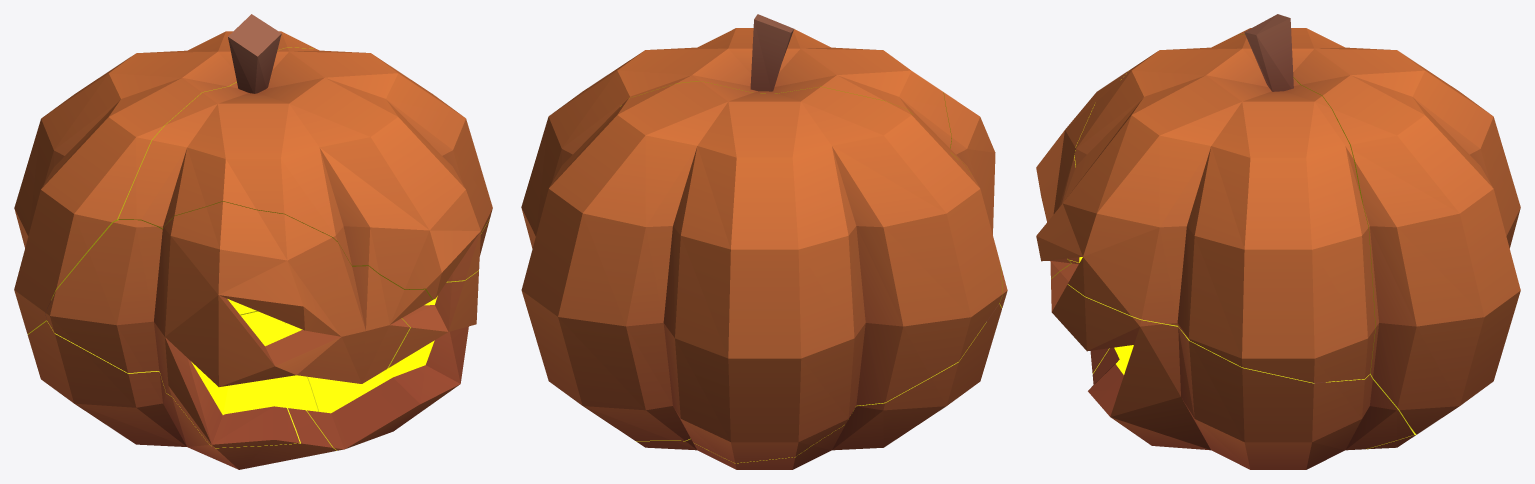
The model's file is lowpoly_pumpkin_pieces.glb.
3 renders of one model, left to right at view 1: azimuth 30°, elevation 25°; view 2: azimuth 150°, elevation 25°; view 3: azimuth 270°, elevation 25°, orthographic.
Parts seen in each view (by area): view 1: pumpkin_orange_jackolantern_cell, pumpkin_orange_jackolantern_cell.002, pumpkin_orange_jackolantern_cell.001, pumpkin_orange_jackolantern_cell.003, pumpkin_orange_jackolantern_cell.004, pumpkin_orange_jackolantern_cell.005; view 2: pumpkin_orange_jackolantern_cell.001, pumpkin_orange_jackolantern_cell, pumpkin_orange_jackolantern_cell.003, pumpkin_orange_jackolantern_cell.002, pumpkin_orange_jackolantern_cell.005; view 3: pumpkin_orange_jackolantern_cell, pumpkin_orange_jackolantern_cell.001, pumpkin_orange_jackolantern_cell.004, pumpkin_orange_jackolantern_cell.002, pumpkin_orange_jackolantern_cell.005, pumpkin_orange_jackolantern_cell.003.
Boxes of the visible parts, x1,y1,x2,y2 form: pumpkin_orange_jackolantern_cell: [118, 47, 492, 299]; pumpkin_orange_jackolantern_cell.002: [45, 201, 432, 447]; pumpkin_orange_jackolantern_cell.001: [14, 31, 315, 334]; pumpkin_orange_jackolantern_cell.003: [27, 311, 336, 469]; pumpkin_orange_jackolantern_cell.004: [286, 219, 489, 450]; pumpkin_orange_jackolantern_cell.005: [228, 14, 281, 93]; pumpkin_orange_jackolantern_cell.001: [521, 81, 1002, 463]; pumpkin_orange_jackolantern_cell: [521, 28, 967, 245]; pumpkin_orange_jackolantern_cell.003: [636, 304, 1001, 469]; pumpkin_orange_jackolantern_cell.002: [943, 92, 1007, 307]; pumpkin_orange_jackolantern_cell.005: [750, 14, 793, 91]; pumpkin_orange_jackolantern_cell: [1036, 34, 1375, 382]; pumpkin_orange_jackolantern_cell.001: [1239, 28, 1520, 434]; pumpkin_orange_jackolantern_cell.004: [1051, 260, 1414, 469]; pumpkin_orange_jackolantern_cell.002: [1036, 70, 1129, 278]; pumpkin_orange_jackolantern_cell.005: [1244, 14, 1293, 91]; pumpkin_orange_jackolantern_cell.003: [1090, 348, 1416, 449].
Size of the model in its own units: 1.5 by 1.3 by 1.4.
Materials: 2 (1 with a texture image).
